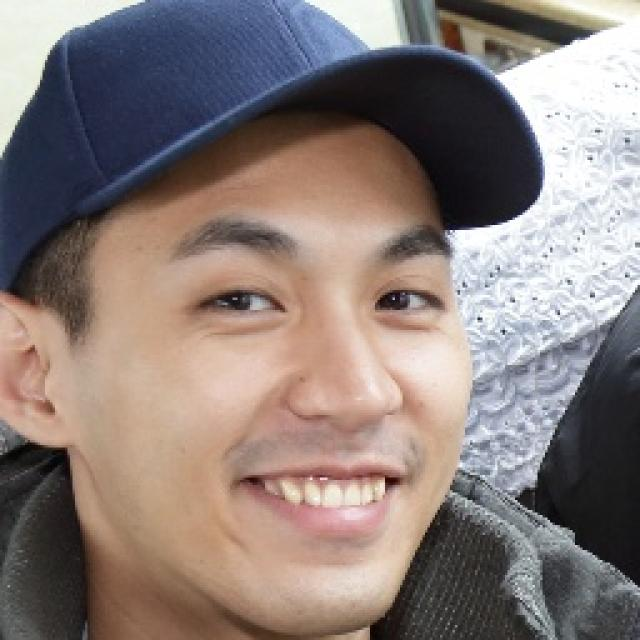earlobe: (5, 405, 74, 451)
eye: (192, 285, 290, 319), (376, 285, 444, 318)
nose: (297, 415, 401, 451)
wholeear: (1, 293, 73, 452)
